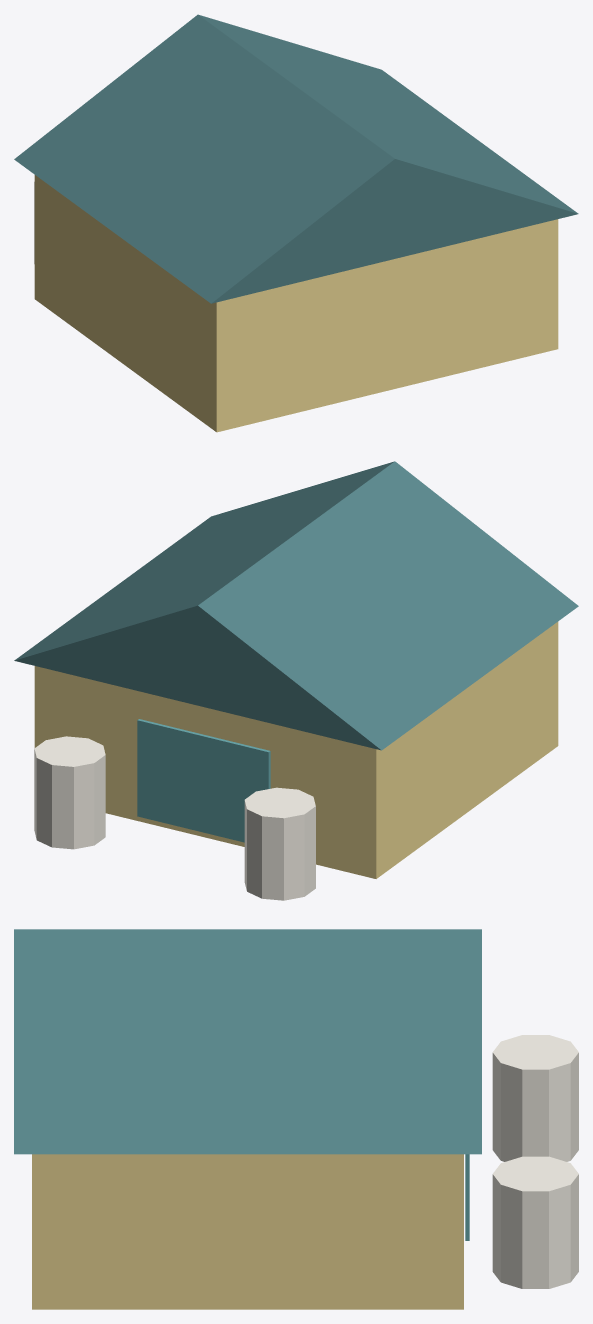
Rendered from agricultural_store.glb.
The picture shows the model from 3 angles, top to bottom: view 1: azimuth 30°, elevation 25°; view 2: azimuth 150°, elevation 25°; view 3: azimuth 270°, elevation 25°; orthographic projection. The views are drawn at different scales.
Parts seen in each view (by area): view 1: agricultural_store__roof, agricultural_store__shed; view 2: agricultural_store__roof, agricultural_store__shed, agricultural_store__front_gate, agricultural_store__chemical_tank, agricultural_store__chemical_tank.001; view 3: agricultural_store__roof, agricultural_store__shed, agricultural_store__chemical_tank.001, agricultural_store__chemical_tank.
Part boxes in pixels (x1,y1,x2,y2): agricultural_store__roof: (14,14,578,303); agricultural_store__shed: (34,175,558,432); agricultural_store__roof: (14,461,578,750); agricultural_store__shed: (34,621,558,878); agricultural_store__front_gate: (137,719,270,842); agricultural_store__chemical_tank: (244,787,315,900); agricultural_store__chemical_tank.001: (34,736,105,849); agricultural_store__roof: (14,929,481,1154); agricultural_store__shed: (32,1154,463,1309); agricultural_store__chemical_tank.001: (492,1156,578,1288); agricultural_store__chemical_tank: (492,1035,578,1161).
Bounding box in the file's own units: 14 × 8.64 × 15.7.
